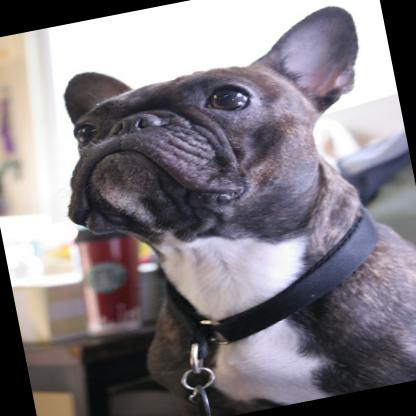French_bulldog: (33, 0, 416, 416)
